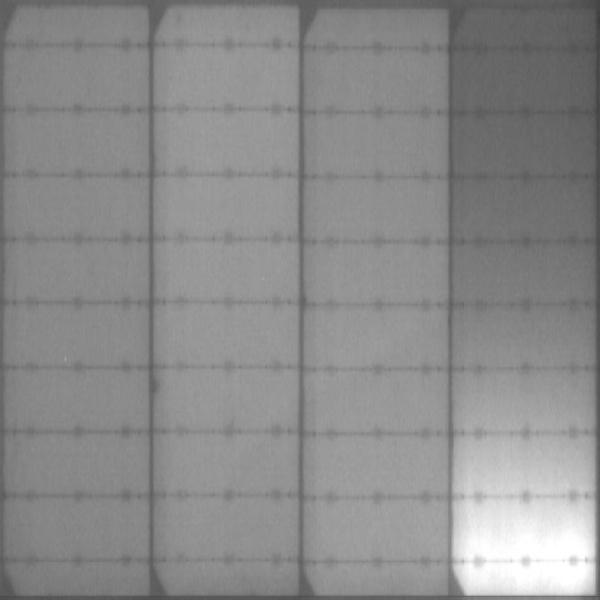hot_spot: (468, 567, 580, 591), (469, 533, 573, 553)
